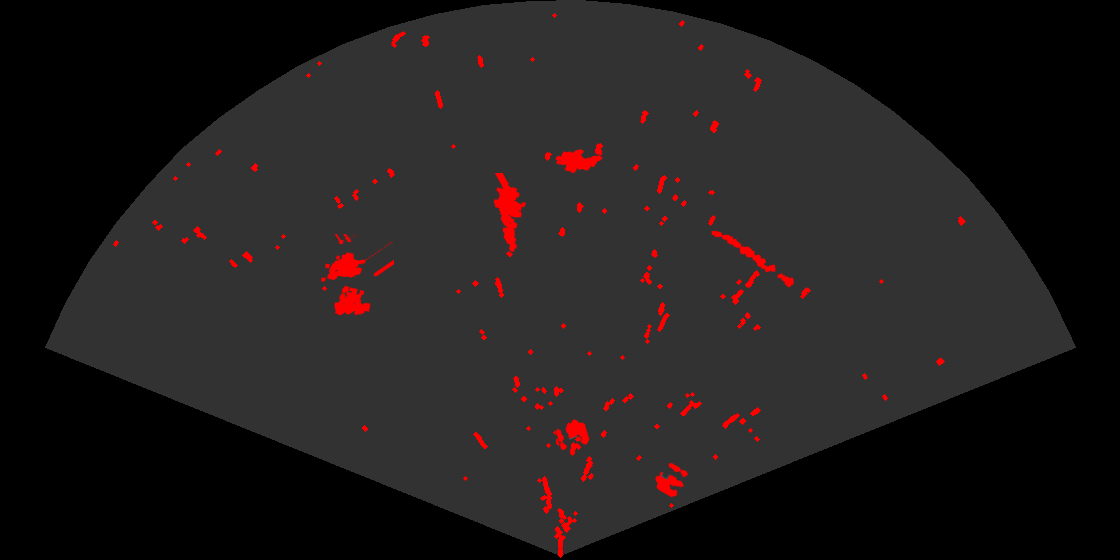AUV: (554, 148, 604, 175)
ball: (654, 461, 690, 499), (554, 418, 591, 452)
cage: (319, 234, 394, 317)
chain: (710, 229, 796, 289)
frogman: (492, 173, 528, 253)
